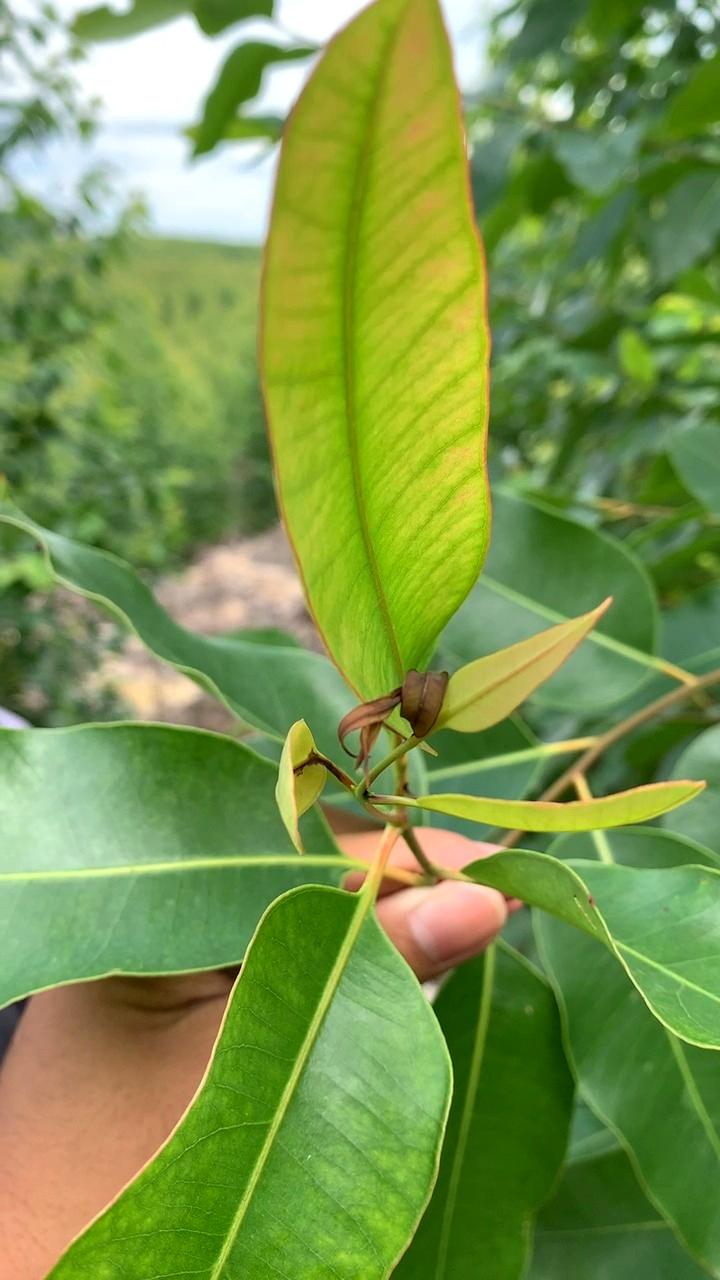Helopeltis-Withered Sprout: (336, 656, 445, 765)
